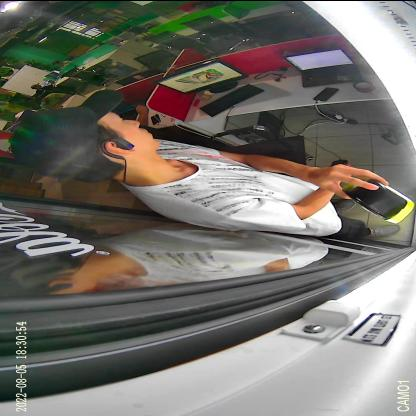yellow: (342, 178, 414, 222)
